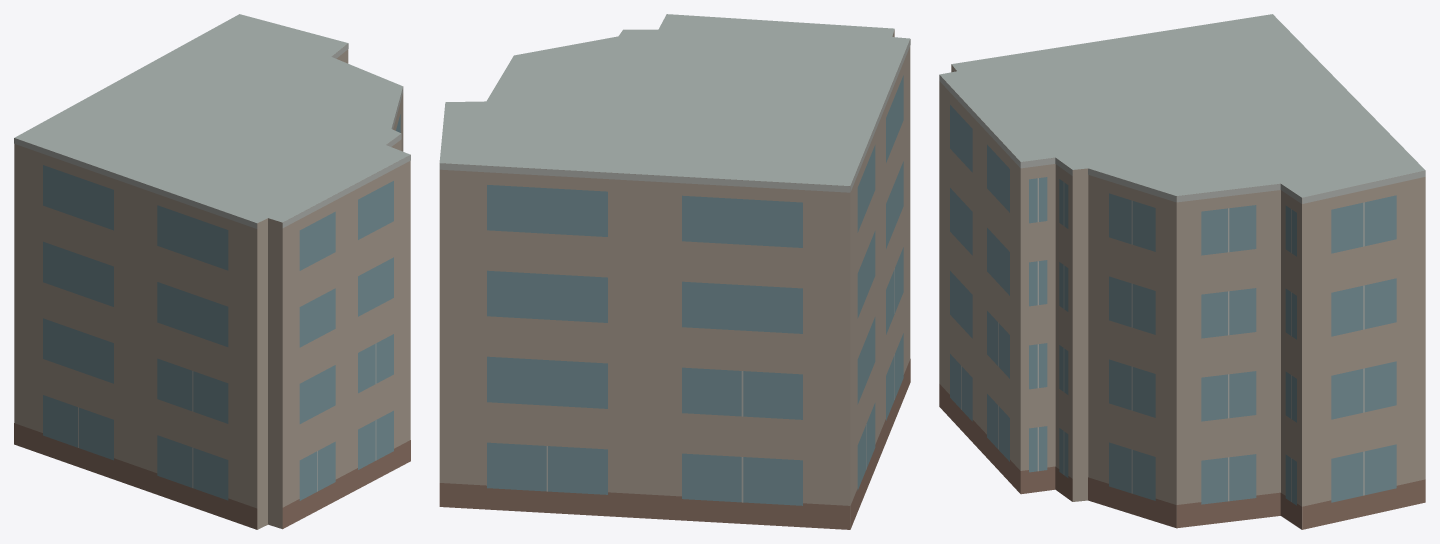
The model's file is survey-upis-32942408.glb.
The picture shows the model from 3 angles, left to right: view 1: azimuth 30°, elevation 25°; view 2: azimuth 150°, elevation 25°; view 3: azimuth 270°, elevation 25°; orthographic projection. The views are drawn at different scales.
Visible parts, largest first — view 1: survey-upis-32942408.tmp; view 2: survey-upis-32942408.tmp; view 3: survey-upis-32942408.tmp.
Part boxes in pixels (left/top/right/bottom): survey-upis-32942408.tmp: left=14, top=14, right=410, bottom=529; survey-upis-32942408.tmp: left=439, top=14, right=910, bottom=529; survey-upis-32942408.tmp: left=939, top=14, right=1425, bottom=529.
Size of the model in its own units: 15.2 by 12.8 by 17.
